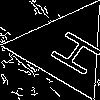H: (40, 23, 100, 78)
